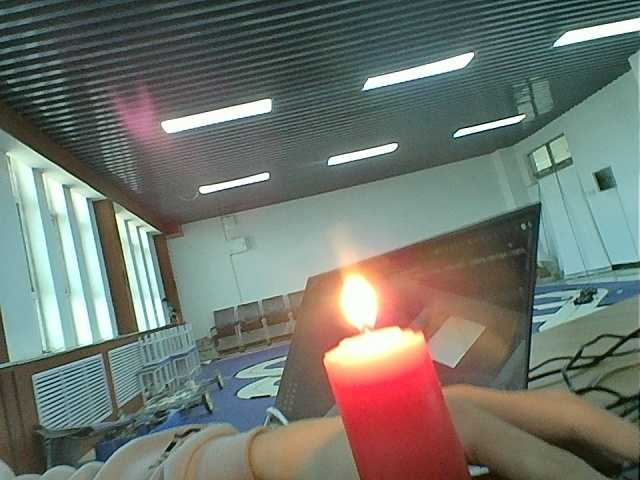candle: (314, 328, 483, 480)
fire: (321, 268, 395, 338)
